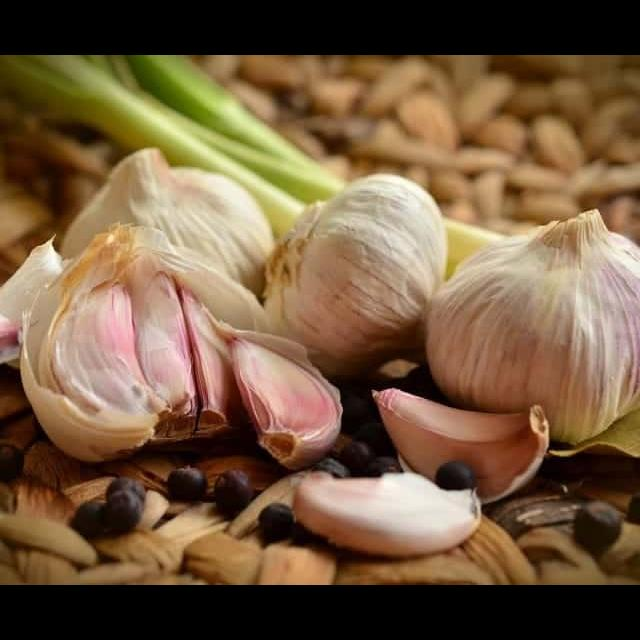garlic: (435, 214, 640, 414), (40, 272, 231, 441), (264, 173, 440, 346), (375, 383, 545, 490), (235, 339, 343, 462)
